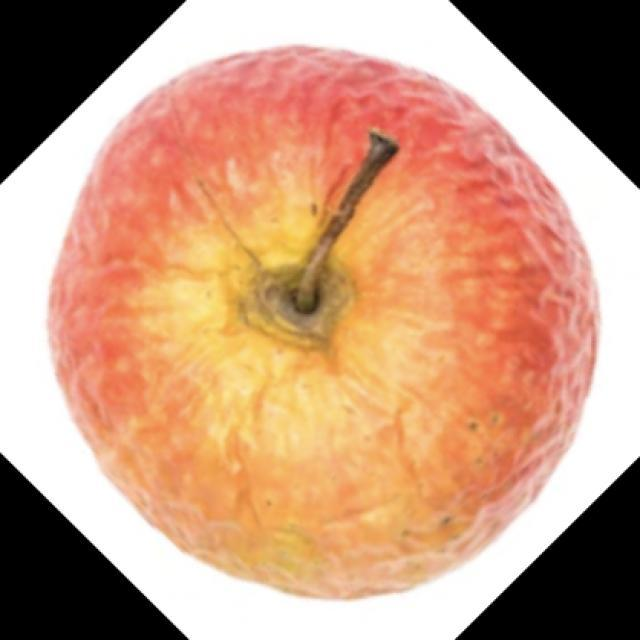Rotten: (59, 23, 594, 580)
